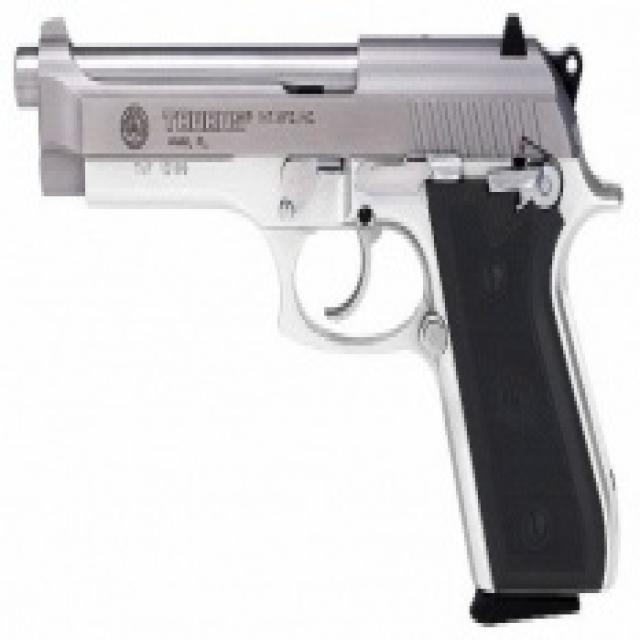pistol: (9, 5, 630, 635)
